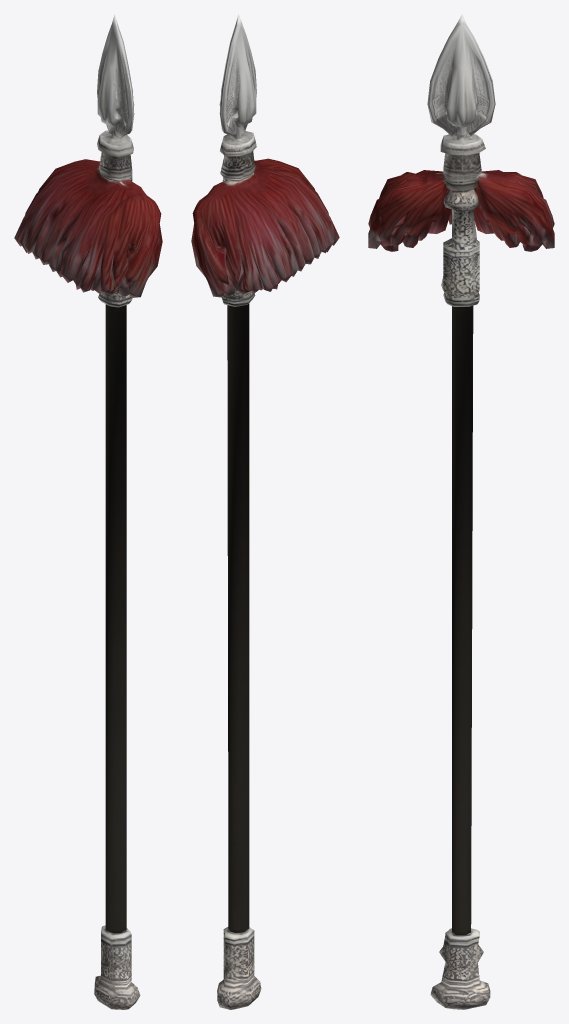
The model's file is zhaoyun_spear.glb.
3 views of the same model, side by side, from view 1: azimuth 30°, elevation 25°; view 2: azimuth 150°, elevation 25°; view 3: azimuth 270°, elevation 25° (orthographic).
Visible parts, largest first — view 1: tripo_node_50358e35-c42f-4410-a975-c4d56f960745; view 2: tripo_node_50358e35-c42f-4410-a975-c4d56f960745; view 3: tripo_node_50358e35-c42f-4410-a975-c4d56f960745.
Boxes of the visible parts, x1=… form: tripo_node_50358e35-c42f-4410-a975-c4d56f960745: x1=14, y1=14, x2=162, y2=1009; tripo_node_50358e35-c42f-4410-a975-c4d56f960745: x1=191, y1=14, x2=339, y2=1009; tripo_node_50358e35-c42f-4410-a975-c4d56f960745: x1=368, y1=14, x2=554, y2=1009.
Bounding box in the file's own units: 0.0939 × 1 × 0.1703.
Materials: 1 (1 with a texture image).
